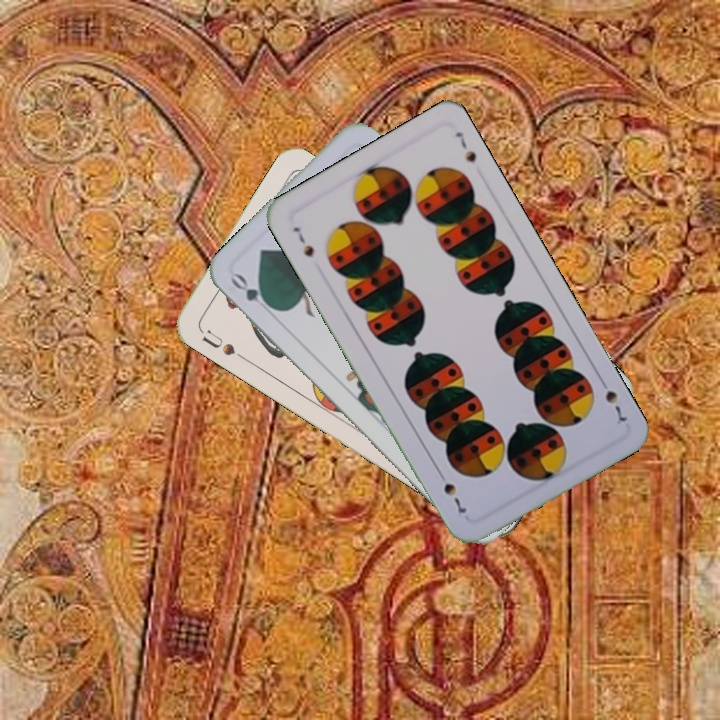GO: (227, 269, 279, 317)
S7: (594, 373, 630, 428), (288, 222, 317, 260)
SU: (197, 325, 248, 363)
